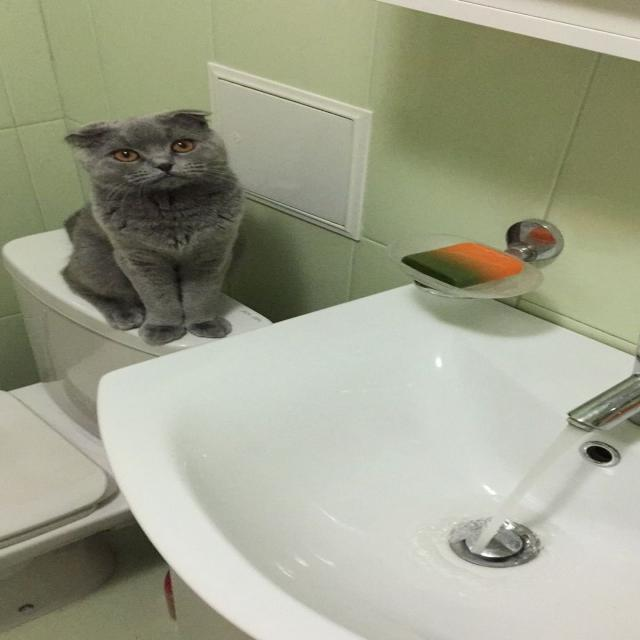british shorthair: (0, 34, 462, 377)
